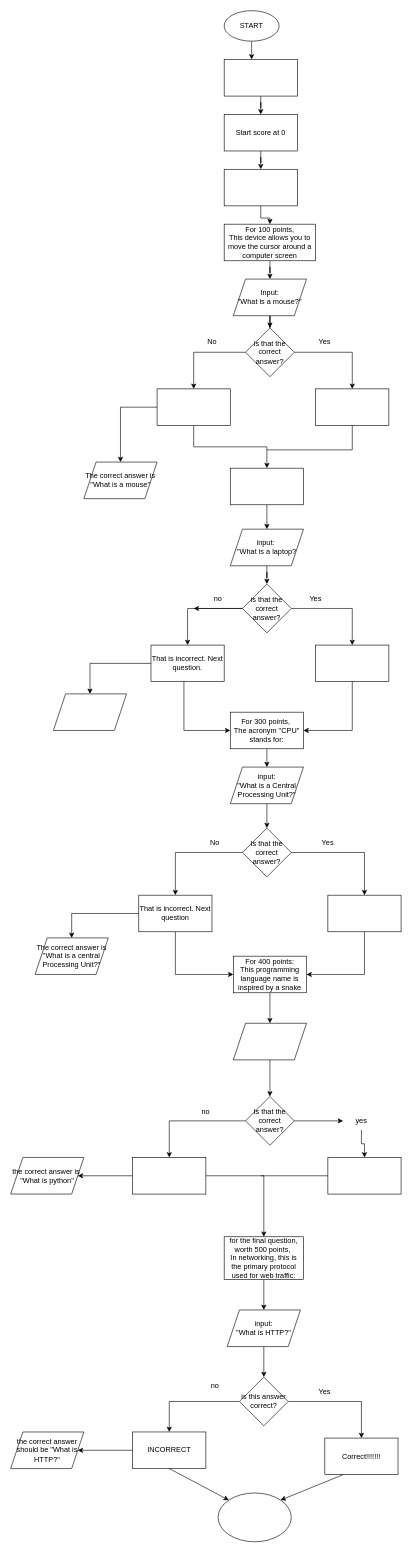
The diagram is 412 pixels wide and 1552 high, and some of its shapes have lost their labels. The shapes that lost their labels are listed below. From the top down, each one's centre as x and y in pixels, then its label:
(x=260, y=77): Welcome Message: "welcome + rules"
(x=260, y=187): Establish the category of questions: "Tech"
(x=193, y=406): That is incorrect, next question
(x=352, y=406): Correct, 100 points added. Next question
(x=266, y=486): For 200 points, This is the portable computer you can move around.
(x=352, y=663): Correct! 200 points added. Next question
(x=90, y=711): The correct answer is "What is a laptop"
(x=364, y=913): Correct! 300 points added to your score. Next question.
(x=270, y=1041): Input: "What is python?"
(x=169, y=1175): Incorrect, next question
(x=364, y=1175): That is correct! 400 points added to your score
(x=254, y=1517): end
